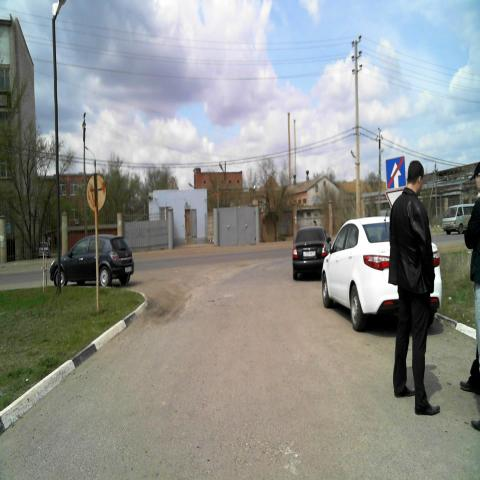5_6: (384, 157, 407, 189)
